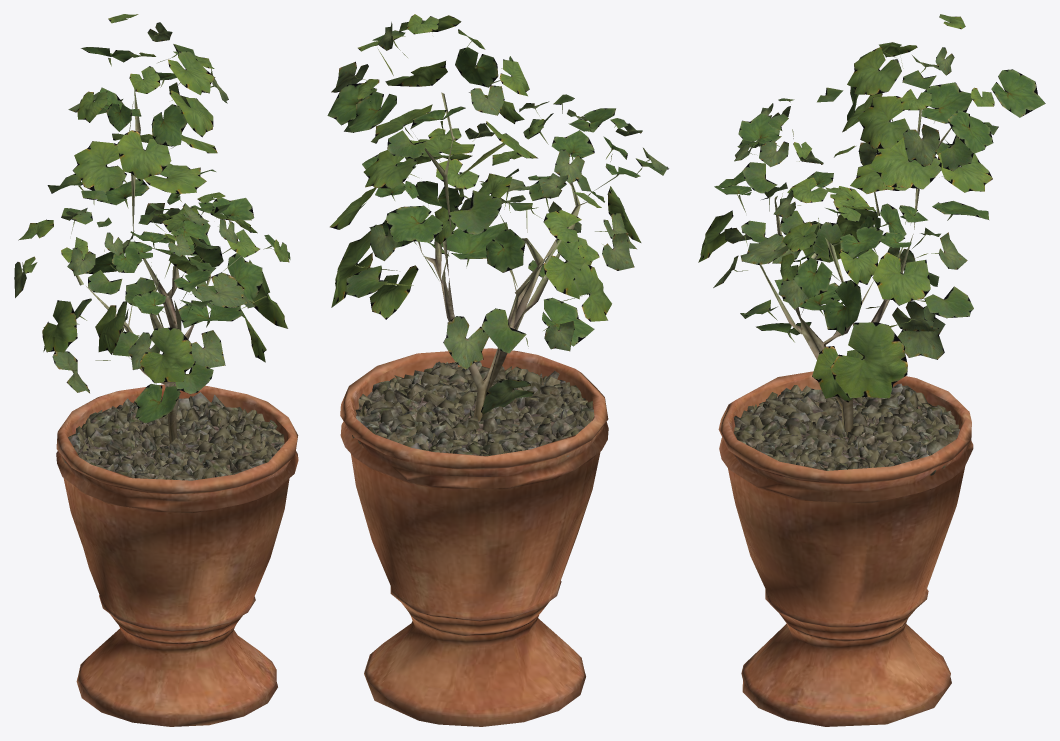
The model's file is potted_plant_1.glb.
3 views of the same model, side by side, from view 1: azimuth 30°, elevation 25°; view 2: azimuth 150°, elevation 25°; view 3: azimuth 270°, elevation 25° (orthographic). The views are drawn at different scales.
Parts seen in each view (by area): view 1: potted_plant_01_pot, potted_plant_01_leaves, potted_plant_01_pebbles, potted_plant_01_stem; view 2: potted_plant_01_pot, potted_plant_01_leaves, potted_plant_01_pebbles, potted_plant_01_stem; view 3: potted_plant_01_pot, potted_plant_01_leaves, potted_plant_01_pebbles, potted_plant_01_stem.
Boxes of the visible parts, x1=… form: potted_plant_01_pot: x1=56, y1=384, x2=298, y2=726; potted_plant_01_leaves: x1=14, y1=14, x2=290, y2=423; potted_plant_01_pebbles: x1=64, y1=392, x2=284, y2=480; potted_plant_01_stem: x1=69, y1=89, x2=242, y2=443; potted_plant_01_pot: x1=340, y1=348, x2=608, y2=726; potted_plant_01_leaves: x1=327, y1=14, x2=668, y2=414; potted_plant_01_pebbles: x1=352, y1=361, x2=594, y2=456; potted_plant_01_stem: x1=417, y1=92, x2=587, y2=420; potted_plant_01_pot: x1=718, y1=371, x2=973, y2=726; potted_plant_01_leaves: x1=698, y1=14, x2=1045, y2=402; potted_plant_01_pebbles: x1=733, y1=383, x2=959, y2=478; potted_plant_01_stem: x1=759, y1=109, x2=951, y2=434.
Bounding box in the file's own units: 0.5858 × 1.34 × 0.6336.
2 materials, 2 textured.
